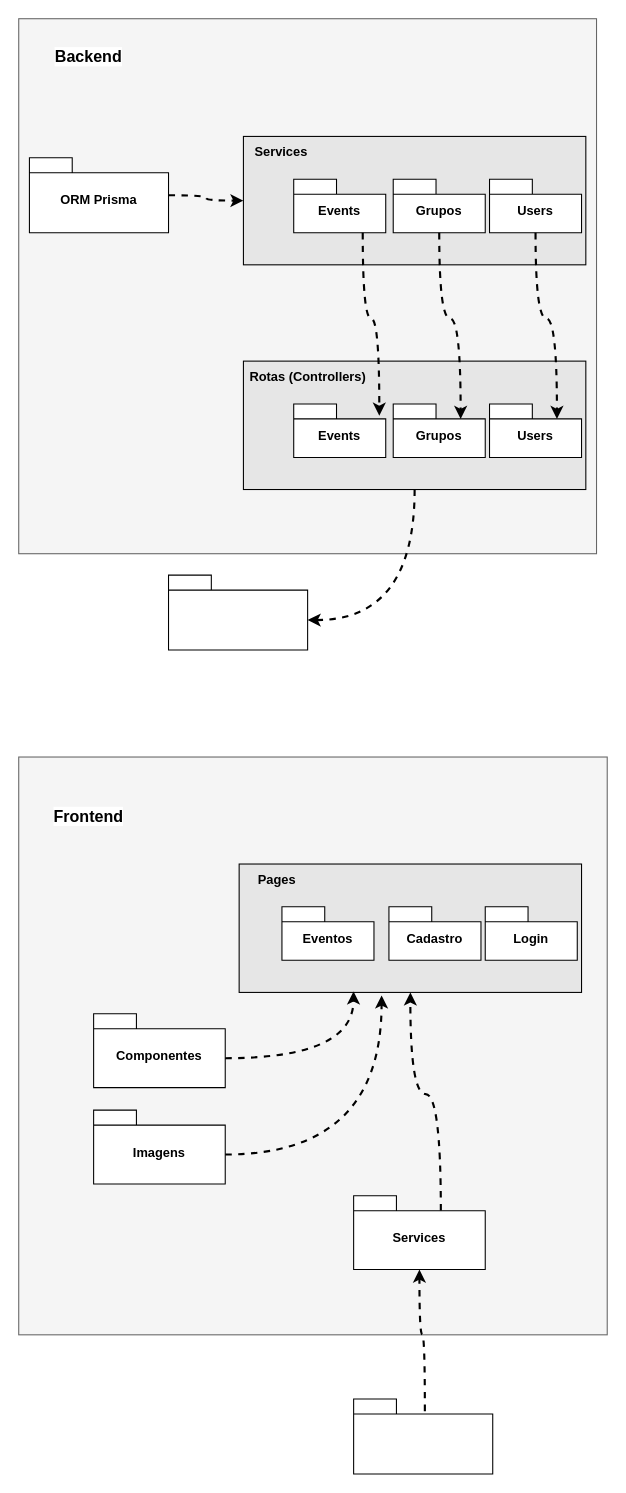
This 626x1493 diagram has some shape labels left out. The shapes that lost their labels are listed below. From the top down, each one's box as (x1, y1, x2, y2) in pixels, then its label:
(167, 574, 308, 650): Client
(353, 1398, 493, 1474): API
